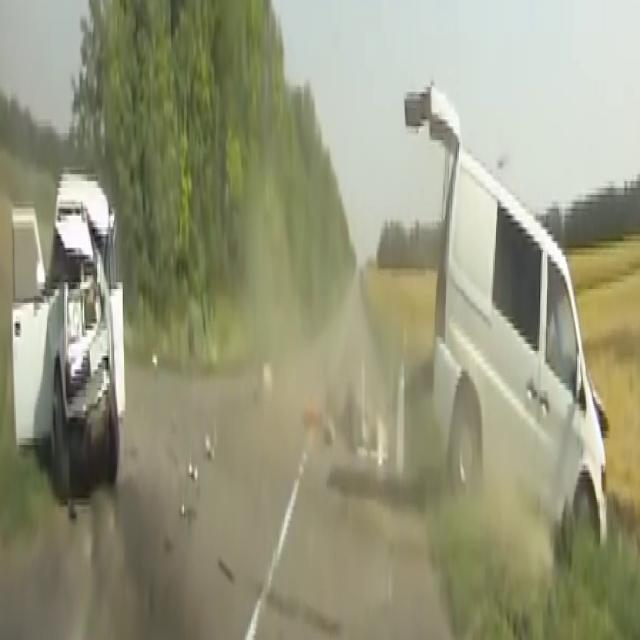accident: (400, 56, 618, 594), (9, 131, 142, 531)
